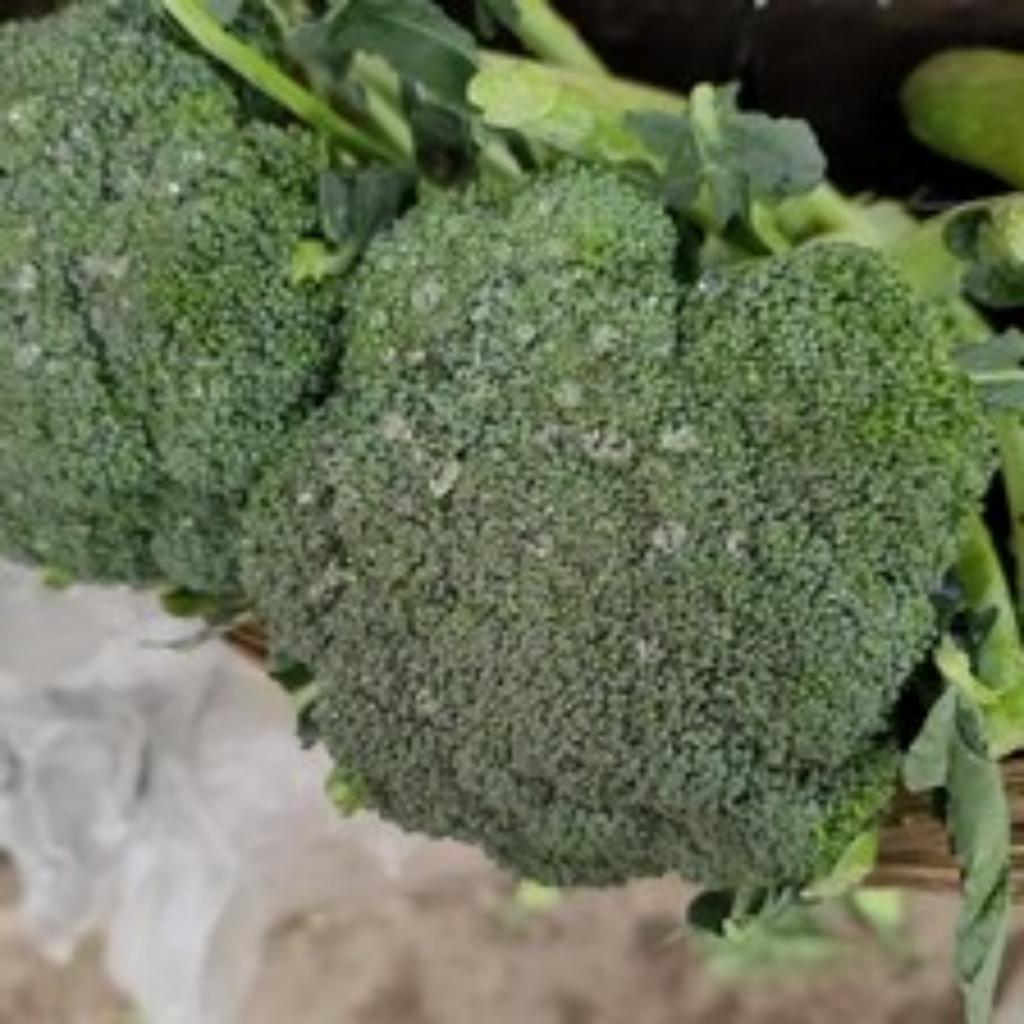Broccoli: (244, 168, 988, 885), (244, 170, 986, 883), (0, 0, 340, 589), (0, 2, 336, 587)
